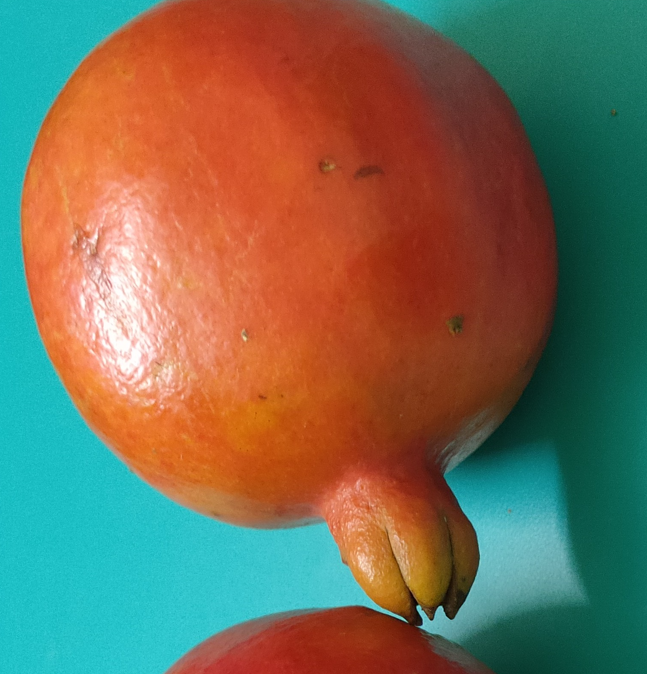pomegranate_B: (23, 1, 558, 629)
